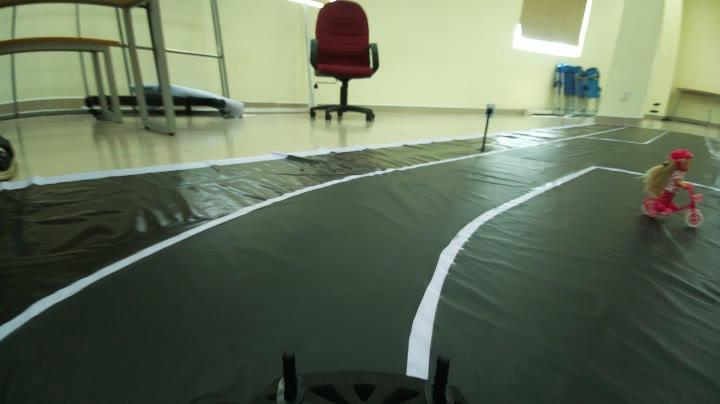pedestrian: (647, 141, 706, 223)
